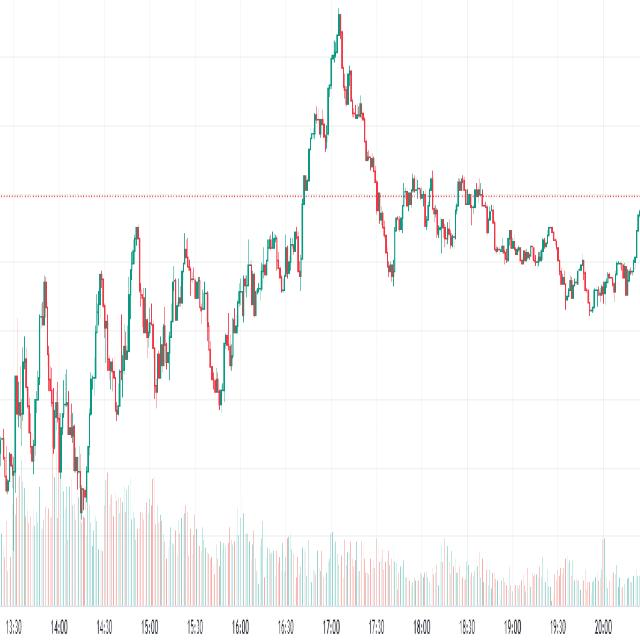Head-Shoulders: (299, 7, 386, 277)
rectangle: (86, 226, 228, 416)
